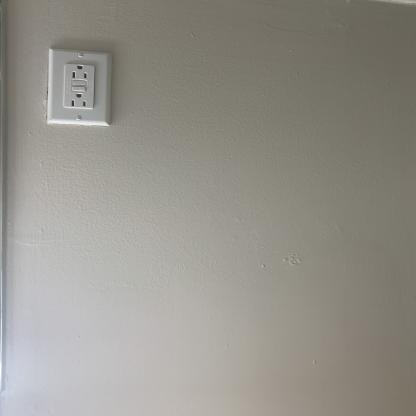OUTLET: (48, 50, 112, 125)
